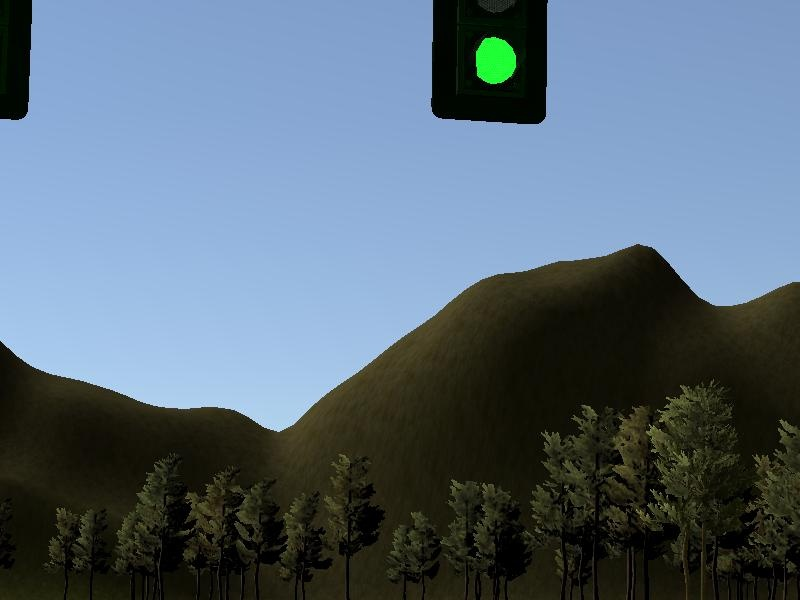traffic_light_green: (1, 2, 800, 129)
